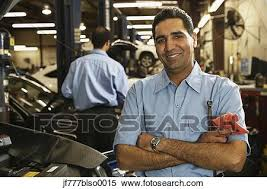Indian_Male: (156, 22, 195, 72)
